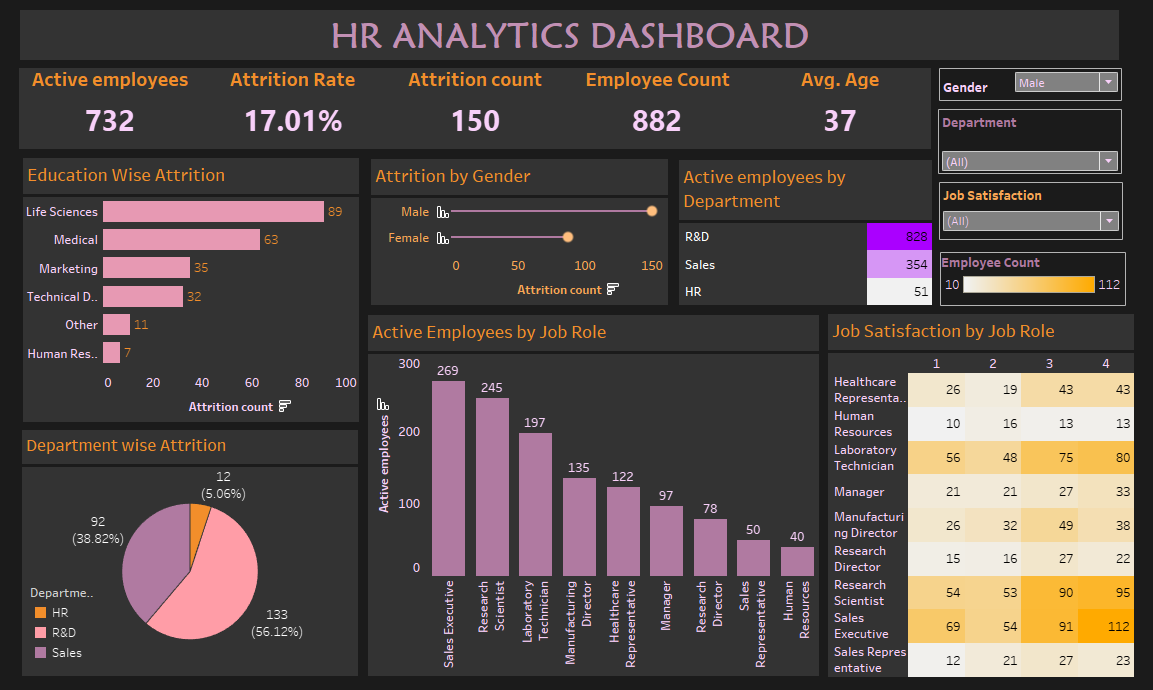

The page's visual inventory and layout, read from the dashboard file:
{"tool":"tableau","page":{"name":"HR Analysis","canvas":[1150,700],"ordinal":0},"visuals":[{"type":"title","box":[15,15,1099,50]},{"type":"worksheet","title":"kpi","mark":"Automatic","box":[14,73,912,81]},{"type":"filter","title":"kpi","param":"[federated.1wgg5ra1kl4i3l10p18sj0x205nm].[none:Gender:nk]","box":[934,73,183,33]},{"type":"filter","title":"kpi","param":"[federated.1wgg5ra1kl4i3l10p18sj0x205nm].[none:Department:nk]","box":[933,114,184,65]},{"type":"worksheet","title":"Education wise attrition","mark":"Automatic","rows":["Education Field"],"cols":["Calculation_991917853222027264"],"box":[18,163,336,264]},{"type":"worksheet","title":"Attrition by gender","mark":"Automatic","rows":["Gender"],"cols":["Calculation_991917853222027264","Calculation_991917853222027264"],"box":[366,164,297,146]},{"type":"worksheet","title":"active employees by dept","mark":"Square","rows":["Department"],"box":[674,165,253,145]},{"type":"filter","title":"job satisfaction","param":"[federated.1wgg5ra1kl4i3l10p18sj0x205nm].[none:Job Satisfaction:ok]","box":[934,187,184,58]},{"type":"legend","title":"job satisfaction","param":"[federated.1wgg5ra1kl4i3l10p18sj0x205nm].[sum:Employee Count:qk]","box":[935,257,186,54]},{"type":"worksheet","title":"job satisfaction","mark":"Square","rows":["Job Role"],"cols":["Job Satisfaction"],"box":[823,319,306,363]},{"type":"worksheet","title":"active employees by job role","mark":"Automatic","rows":["Calculation_1233141908290183169"],"cols":["Job Role"],"box":[363,320,451,361]},{"type":"worksheet","title":"Department Wise Attrition","mark":"Pie","box":[17,435,336,246]},{"type":"legend","title":"Department Wise Attrition","param":"[federated.1wgg5ra1kl4i3l10p18sj0x205nm].[none:Department:nk]","box":[25,589,68,81]}]}

Visuals, with their boxes in screenshot pixels (x1, y1, x2, y2), scaled from the page's 1150x700 canvas onto the 1153x690 screenshot:
title: 15, 15, 1117, 64
"kpi" worksheet: 14, 72, 928, 152
"kpi" filter: 936, 72, 1120, 104
"kpi" filter: 935, 112, 1120, 176
"Education wise attrition" worksheet: 18, 161, 355, 421
"Attrition by gender" worksheet: 367, 162, 665, 306
"active employees by dept" worksheet (Square marks): 676, 163, 929, 306
"job satisfaction" filter: 936, 184, 1121, 242
"job satisfaction" legend: 937, 253, 1124, 307
"job satisfaction" worksheet (Square marks): 825, 314, 1132, 672
"active employees by job role" worksheet: 364, 315, 816, 671
"Department Wise Attrition" worksheet (Pie marks): 17, 429, 354, 671
"Department Wise Attrition" legend: 25, 581, 93, 660
